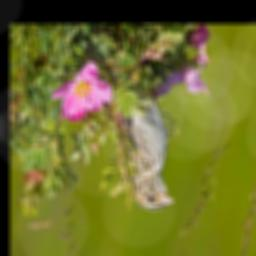Sparrow: (113, 76, 180, 217)
